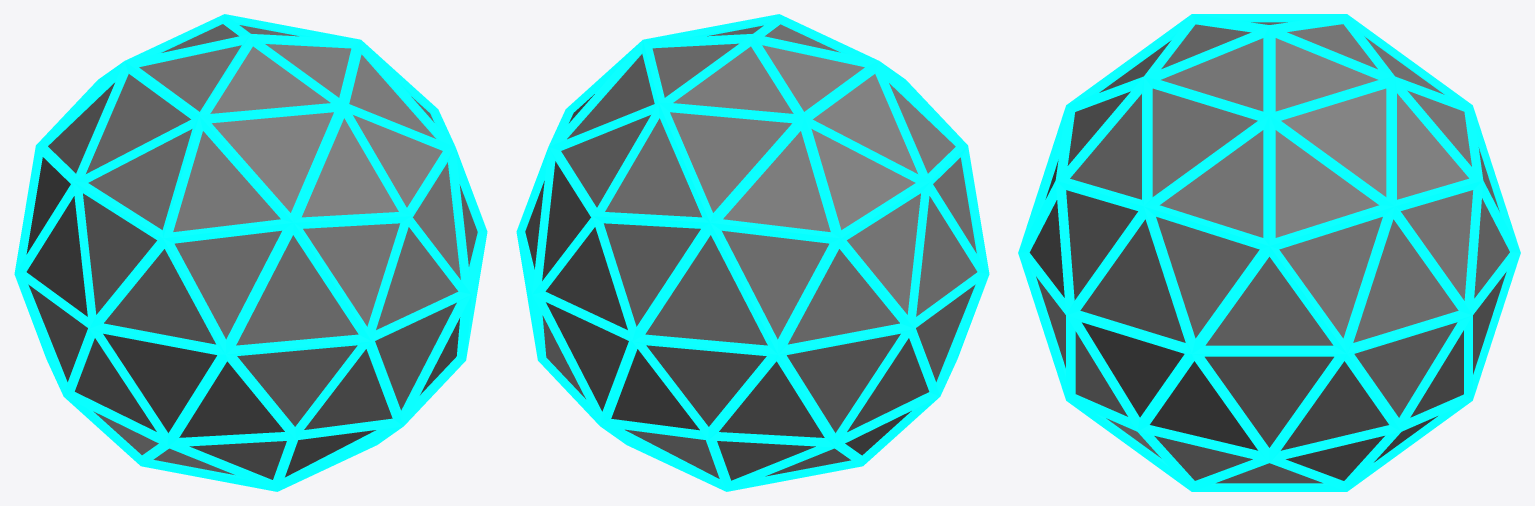
Rendered from Item_Factory_Ball.fbx.
The picture shows the model from 3 angles, left to right: view 1: azimuth 30°, elevation 25°; view 2: azimuth 150°, elevation 25°; view 3: azimuth 270°, elevation 25°; orthographic projection. The views are drawn at different scales.
Visible parts, largest first — view 1: Item Factory Ball; view 2: Item Factory Ball; view 3: Item Factory Ball.
Part boxes in pixels (x1,y1,x2,y2): Item Factory Ball: (14, 14, 487, 491); Item Factory Ball: (516, 14, 989, 491); Item Factory Ball: (1018, 14, 1520, 491).
Size of the model in its own units: 332 by 349 by 349.
